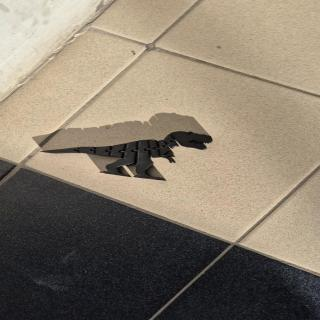dino: (40, 131, 213, 181)
